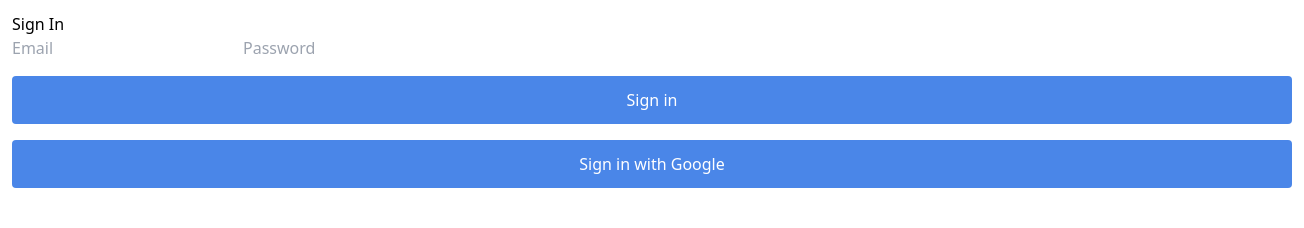
Test: SignIn Component › displays an error message when signing in with email and password fails
Step 1. Type "test@gmail.com" into the field with placeholder "Email" → x=128, y=48, box [12,36,243,60]
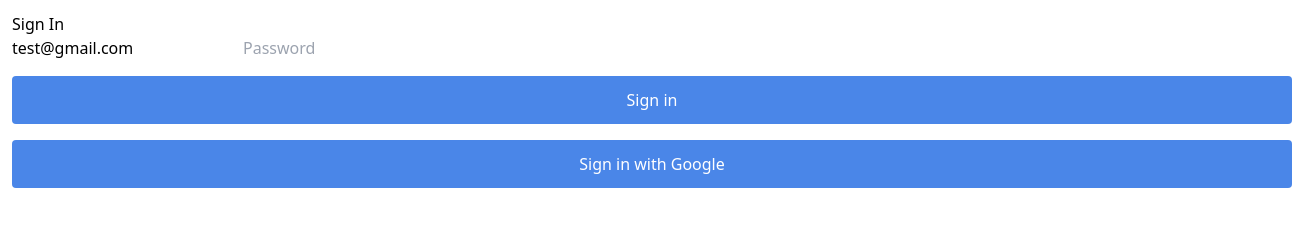
Step 2. Type "password123" into the password field with placeholder "Password" → x=358, y=48, box [243,36,474,60]
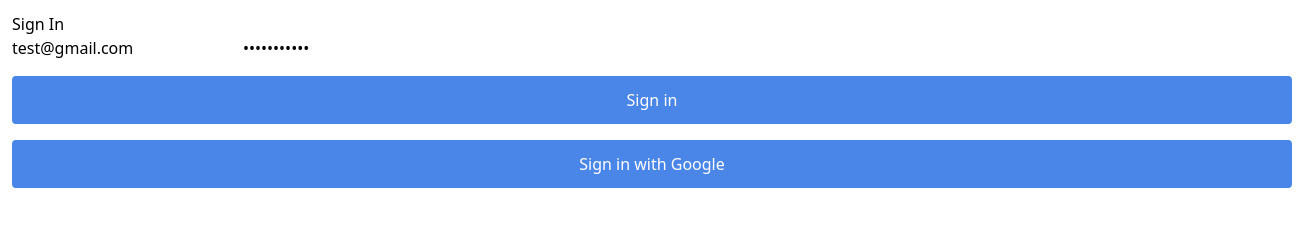
Step 3. Click the button "Sign in" → x=652, y=100, box [12,76,1292,124]
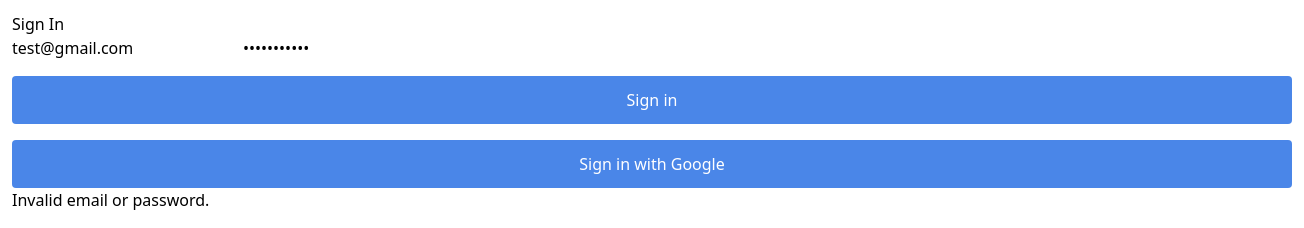
Check: the text "Invalid email or password." is shown, box [12,189,209,211]
